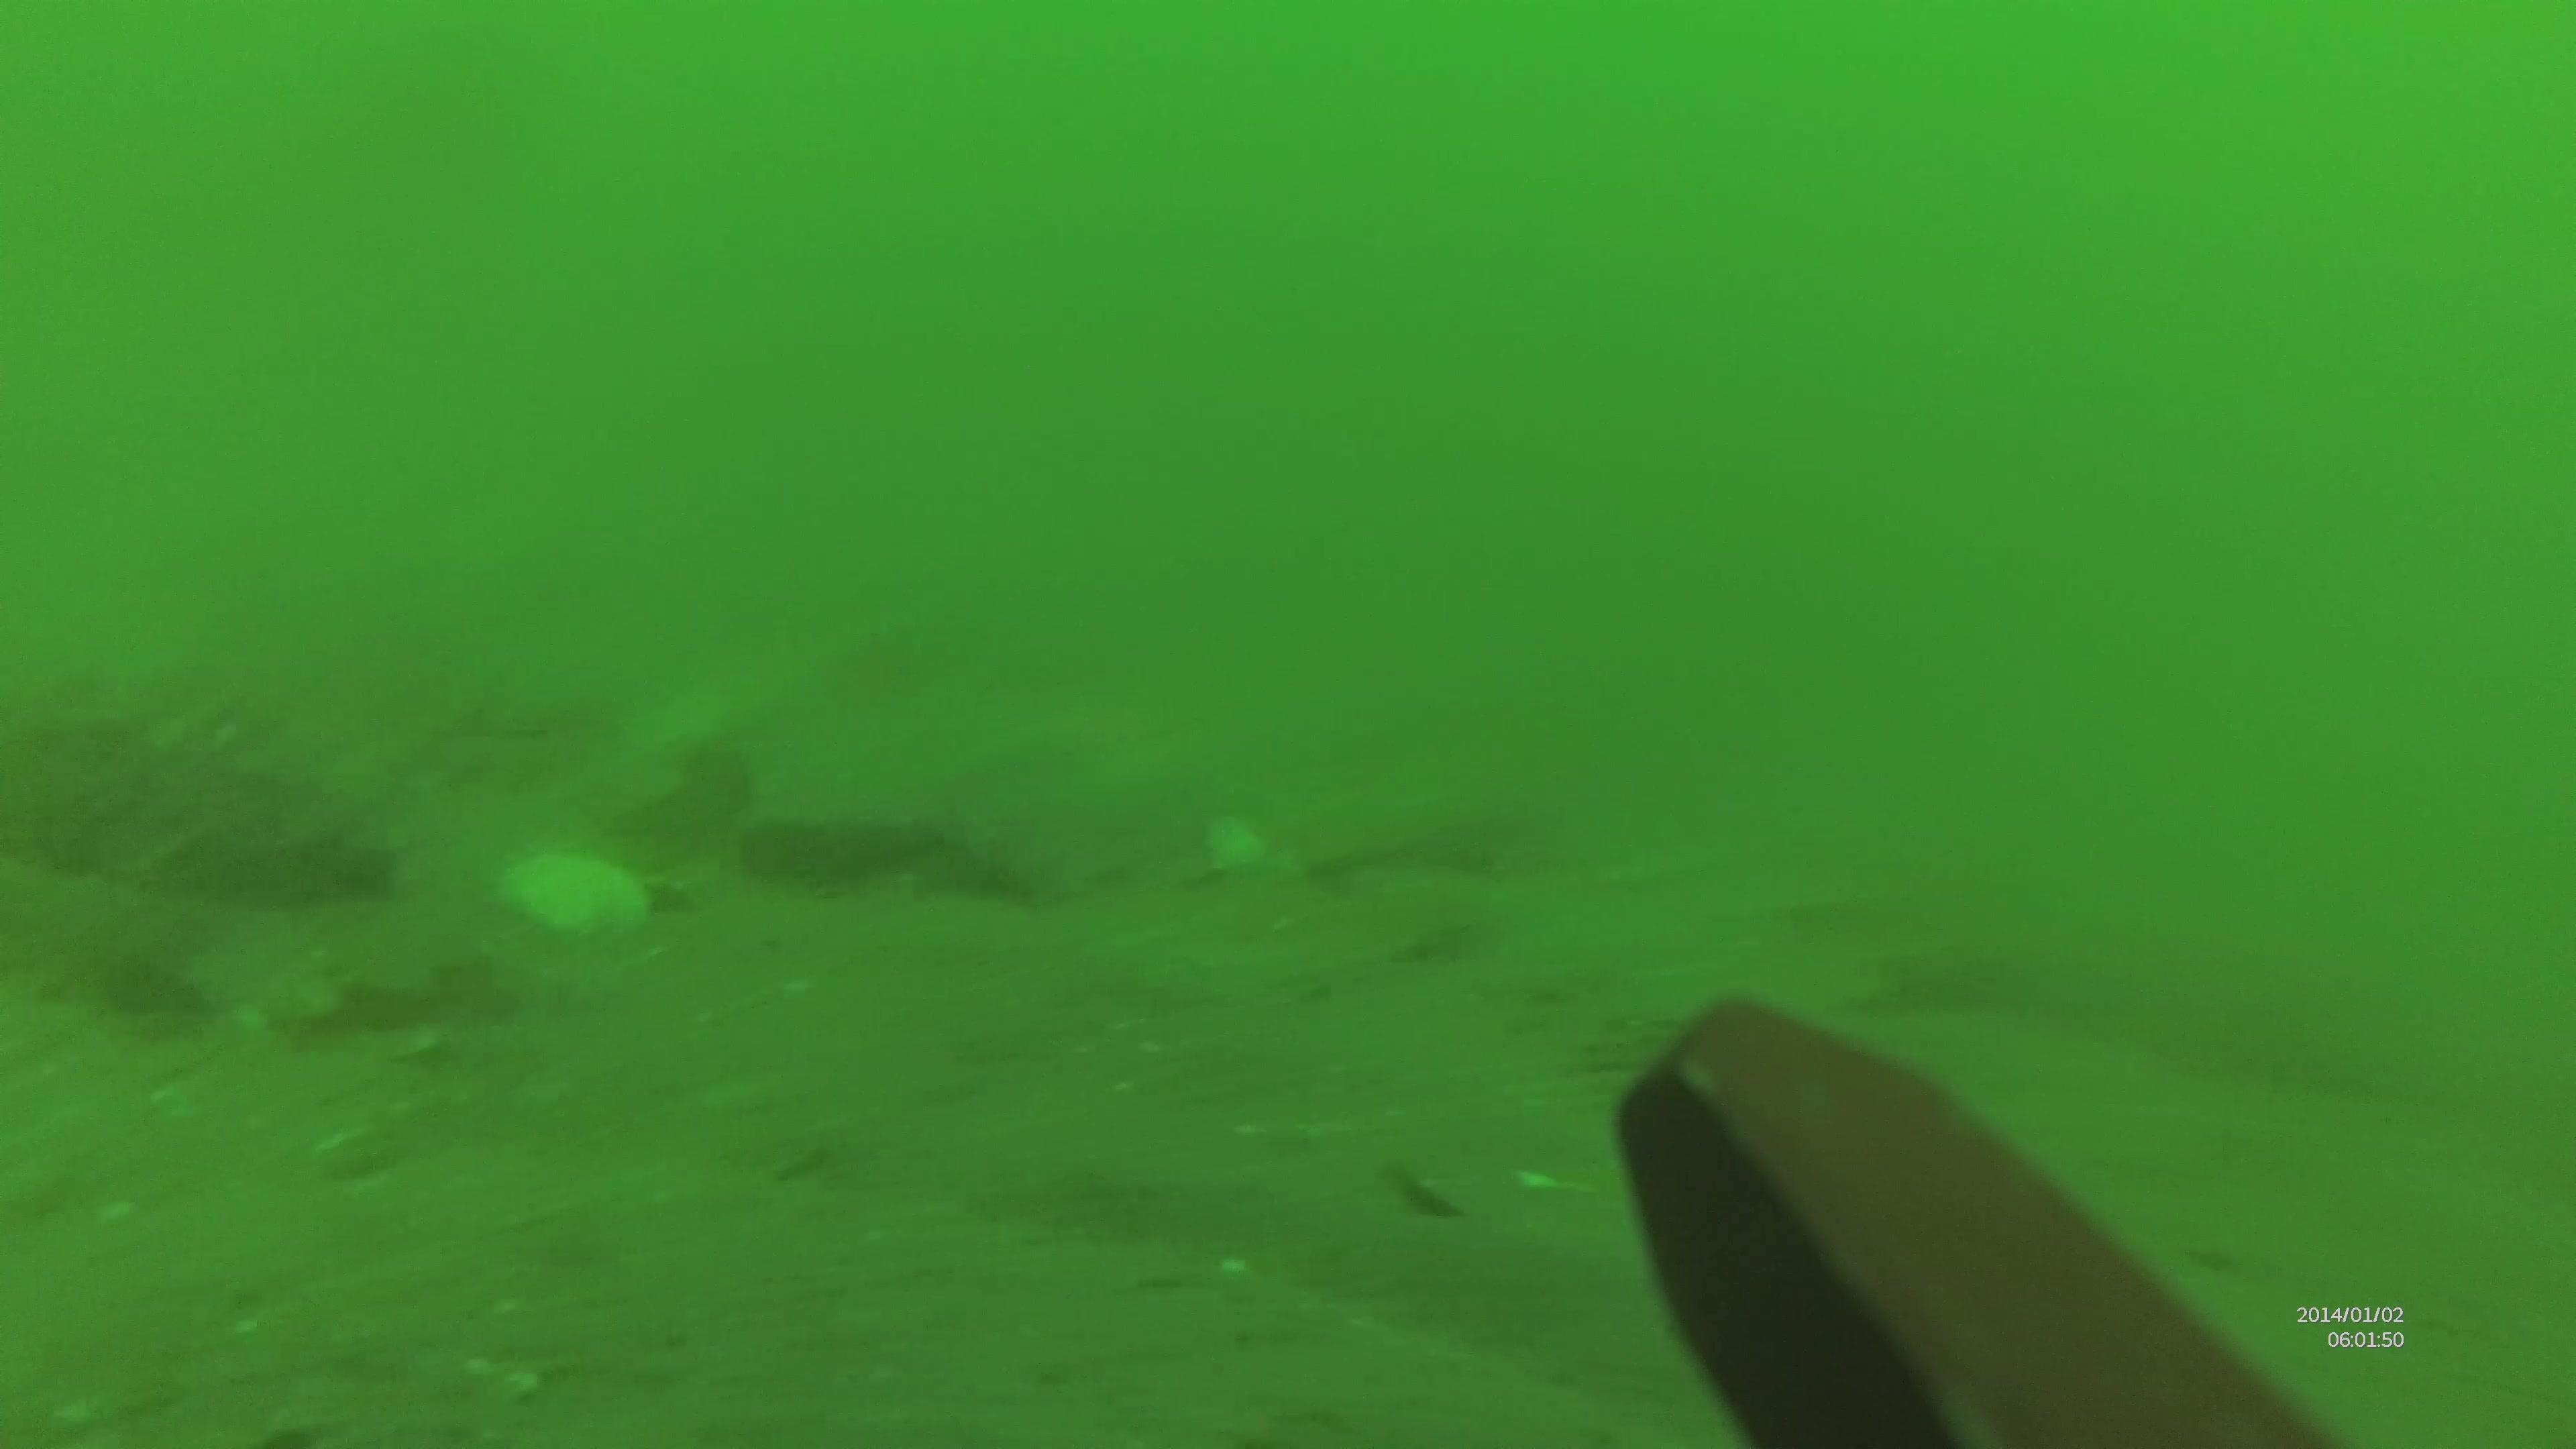holothurian: (5, 671, 396, 913)
scallop: (495, 847, 655, 941)
